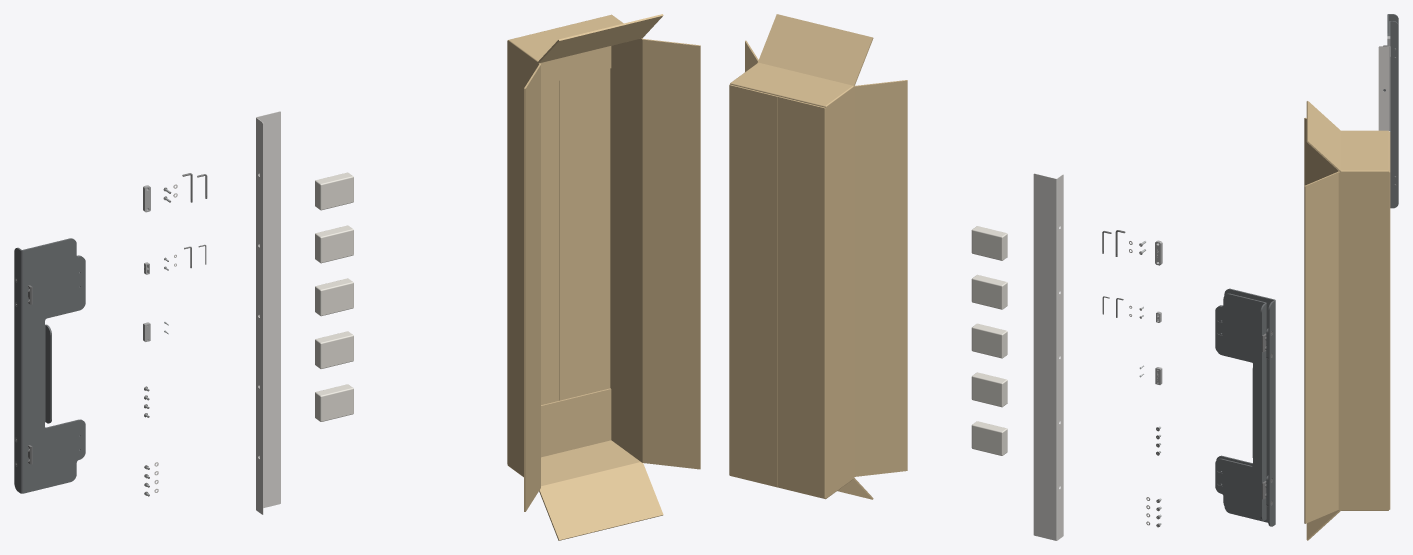
The model's file is LG-VBX-M460-ATCD-00-00.glb.
The picture shows the model from 3 angles, left to right: view 1: azimuth 30°, elevation 25°; view 2: azimuth 150°, elevation 25°; view 3: azimuth 270°, elevation 25°; orthographic projection. The views are drawn at different scales.
Parts seen in each view (by area): view 1: AWR-00051, AWR-00033, AWR2013-900-007, IQHRT00-10 (×5); view 2: AWR-00051, AWR2013-900-007, AWR-00032, IQHRT00-10 (×5), AWR-00033; view 3: AWR-00051, AWR-00032, AWR2013-900-007.
Part boxes in pixels (x1=…): AWR-00051: x1=507, y1=14, x2=700, y2=540; AWR-00033: x1=14, y1=238, x2=85, y2=493; AWR2013-900-007: x1=256, y1=111, x2=280, y2=514; IQHRT00-10 (×5): x1=315, y1=172, x2=353, y2=421; AWR-00051: x1=729, y1=14, x2=907, y2=499; AWR2013-900-007: x1=1033, y1=173, x2=1063, y2=540; AWR-00032: x1=1215, y1=293, x2=1266, y2=520; IQHRT00-10 (×5): x1=971, y1=226, x2=1007, y2=455; AWR-00033: x1=1216, y1=288, x2=1275, y2=526; AWR-00051: x1=1304, y1=101, x2=1390, y2=540; AWR-00032: x1=1389, y1=21, x2=1398, y2=208; AWR2013-900-007: x1=1378, y1=46, x2=1390, y2=130.
Bounding box in the file's own units: 1.89 × 1.44 × 0.309.
